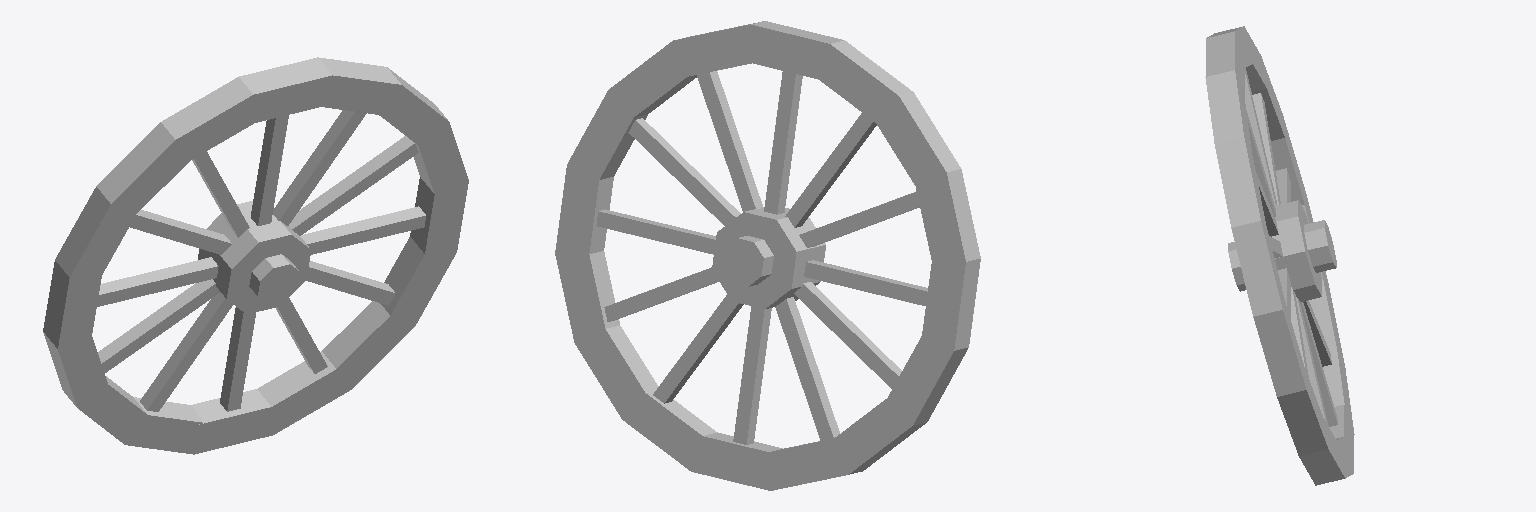
File: mt_wheel_l_display.obj
3 views of the same model, side by side, from view 1: azimuth 30°, elevation 25°; view 2: azimuth 150°, elevation 25°; view 3: azimuth 270°, elevation 25° (orthographic).
Parts seen in each view (by area): view 1: cube.001, cube.002, cube, hexadecagon.003, cube.000, hexadecagon.011, hexadecagon.002, hexadecagon.001, cube.003, hexadecagon.004, hexadecagon.005, hexadecagon.009 (+15 smaller); view 2: cube.002, cube.000, cube.001, cube.004, cube, hexadecagon.004, hexadecagon.002, hexadecagon.012, hexadecagon.006, cube.003, hexadecagon.003, hexadecagon.005 (+15 smaller); view 3: hexadecagon.014, hexadecagon.007, hexadecagon.013, hexadecagon.008, hexadecagon.012, cube.004, hexadecagon.001, cube.000, hexadecagon.011, cube.003, hexadecagon.005, hexadecagon (+11 smaller).
Part boxes in pixels (x1,y1,x2,y2): cube.001: (98, 136, 417, 372); cube.002: (140, 110, 366, 411); cube: (97, 206, 425, 306); hexadecagon.003: (96, 122, 195, 218); cube.000: (220, 115, 288, 411); hexadecagon.011: (322, 301, 414, 389); hexadecagon.002: (161, 77, 252, 159); hexadecagon.001: (239, 57, 332, 123); cube.003: (130, 210, 395, 305); hexadecagon.004: (55, 187, 135, 277); hexadecagon.005: (43, 261, 102, 348); hexadecagon.009: (191, 389, 277, 454); cube.002: (697, 71, 839, 440); cube.000: (733, 71, 802, 444); cube.001: (628, 118, 901, 388); cube.004: (653, 113, 876, 403); cube: (596, 209, 927, 305); hexadecagon.004: (914, 169, 980, 268); hexadecagon.002: (813, 40, 912, 126); hexadecagon.012: (555, 247, 619, 342); hexadecagon.006: (884, 329, 967, 425); cube.003: (604, 191, 919, 321); hexadecagon.003: (876, 92, 960, 184); hexadecagon.005: (922, 259, 980, 350); hexadecagon.014: (1231, 219, 1286, 316); hexadecagon.007: (1215, 137, 1265, 227); hexadecagon.013: (1253, 302, 1306, 396); hexadecagon.008: (1205, 70, 1252, 158); hexadecagon.012: (1277, 364, 1327, 455); cube.004: (1245, 68, 1328, 425); hexadecagon.001: (1206, 31, 1244, 100); cube.000: (1246, 110, 1337, 426); hexadecagon.011: (1299, 419, 1344, 485); cube.003: (1252, 93, 1308, 376); hexadecagon.005: (1271, 116, 1306, 204); hexadecagon: (1309, 279, 1344, 365).
Size of the model in its own units: 1.88 by 1.84 by 0.6067.